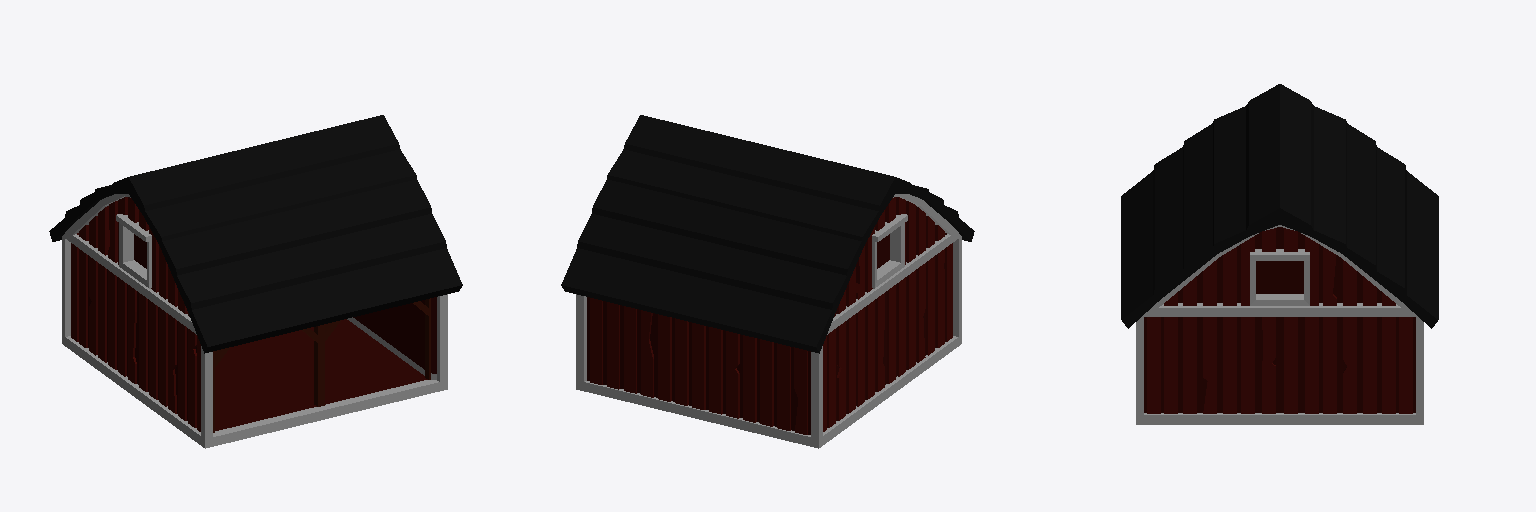
File: OpenBarn.obj
3 views of the same model, side by side, from view 1: azimuth 30°, elevation 25°; view 2: azimuth 150°, elevation 25°; view 3: azimuth 270°, elevation 25° (orthographic).
Visible parts, largest first — view 1: OpenBarn_Cube.045; view 2: OpenBarn_Cube.045; view 3: OpenBarn_Cube.045.
Boxes of the visible parts, x1=… form: OpenBarn_Cube.045: x1=49, y1=115, x2=462, y2=448; OpenBarn_Cube.045: x1=561, y1=115, x2=974, y2=448; OpenBarn_Cube.045: x1=1121, y1=84, x2=1438, y2=424.
Size of the model in its own units: 5.74 by 4.74 by 6.18.